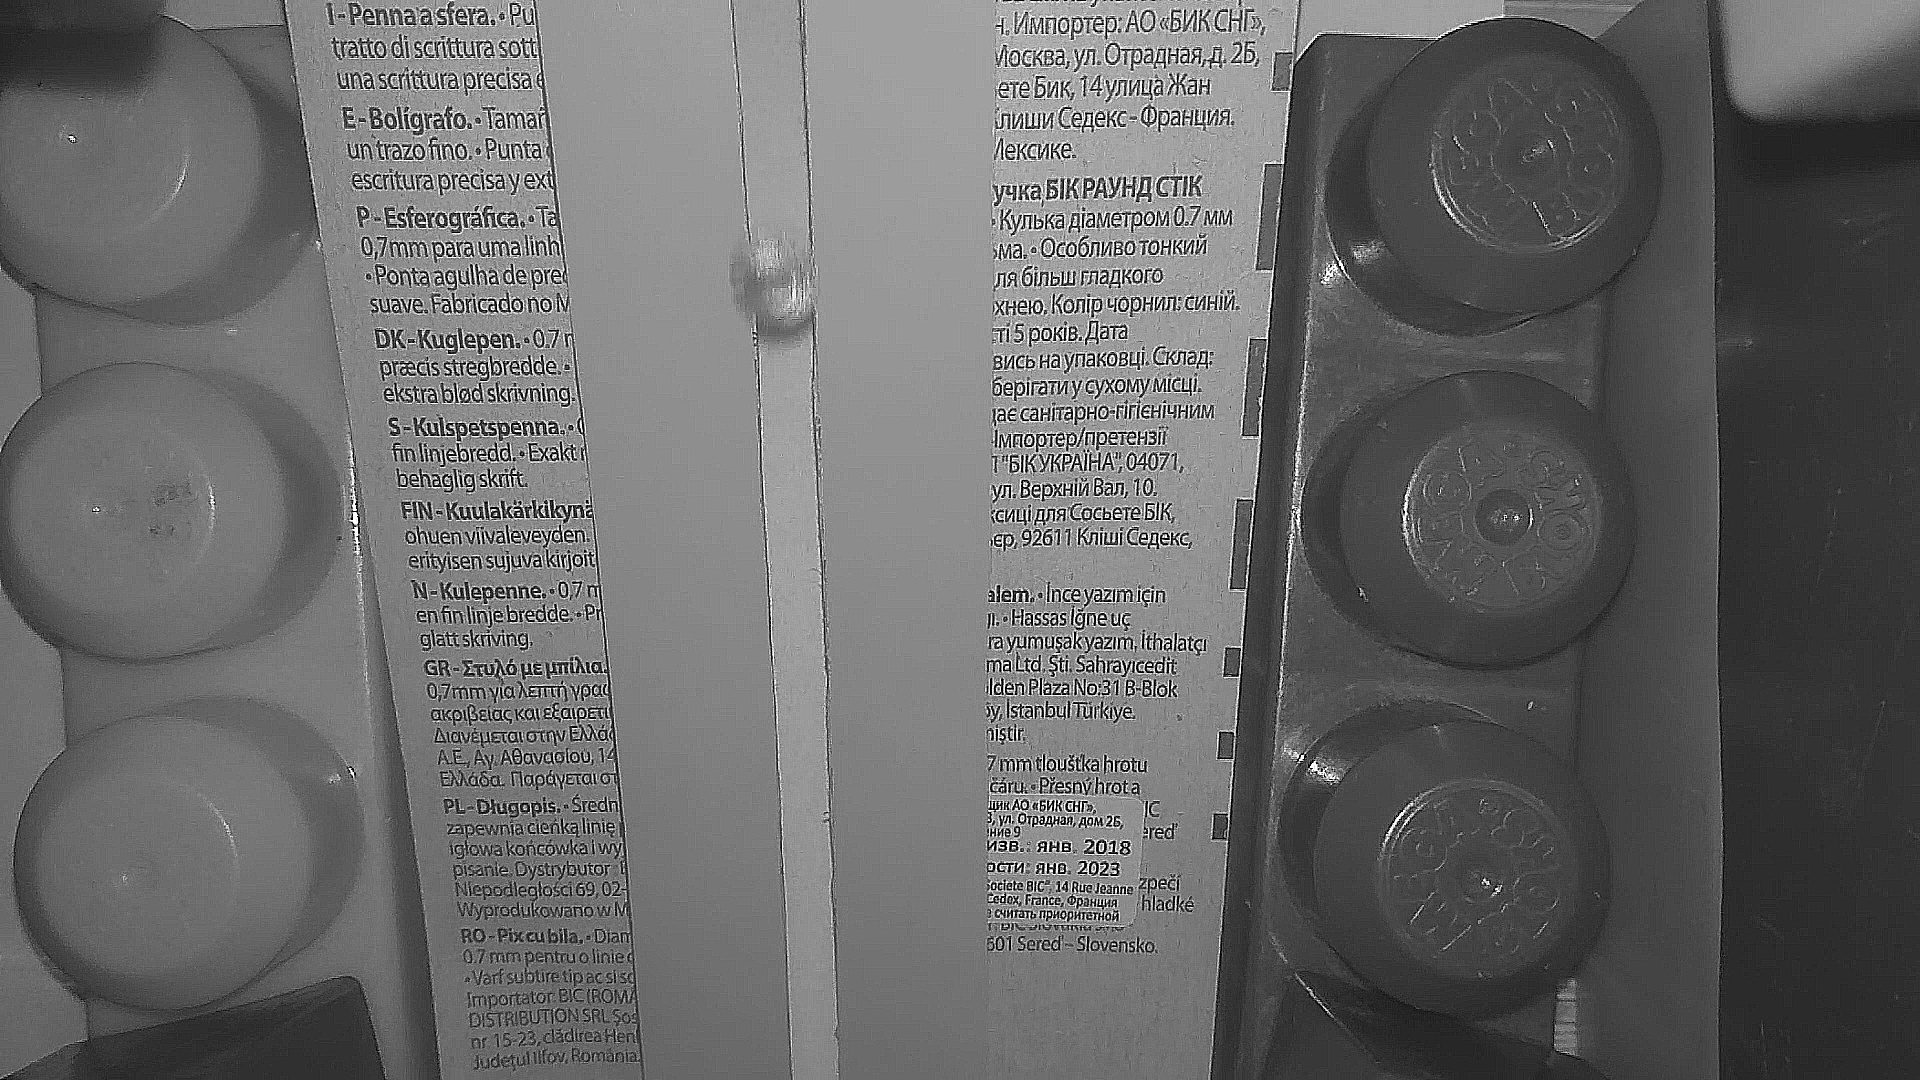i: (733, 236, 819, 330)
